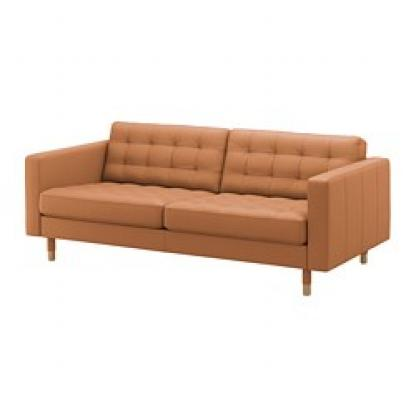Sofa: (20, 100, 393, 304)
